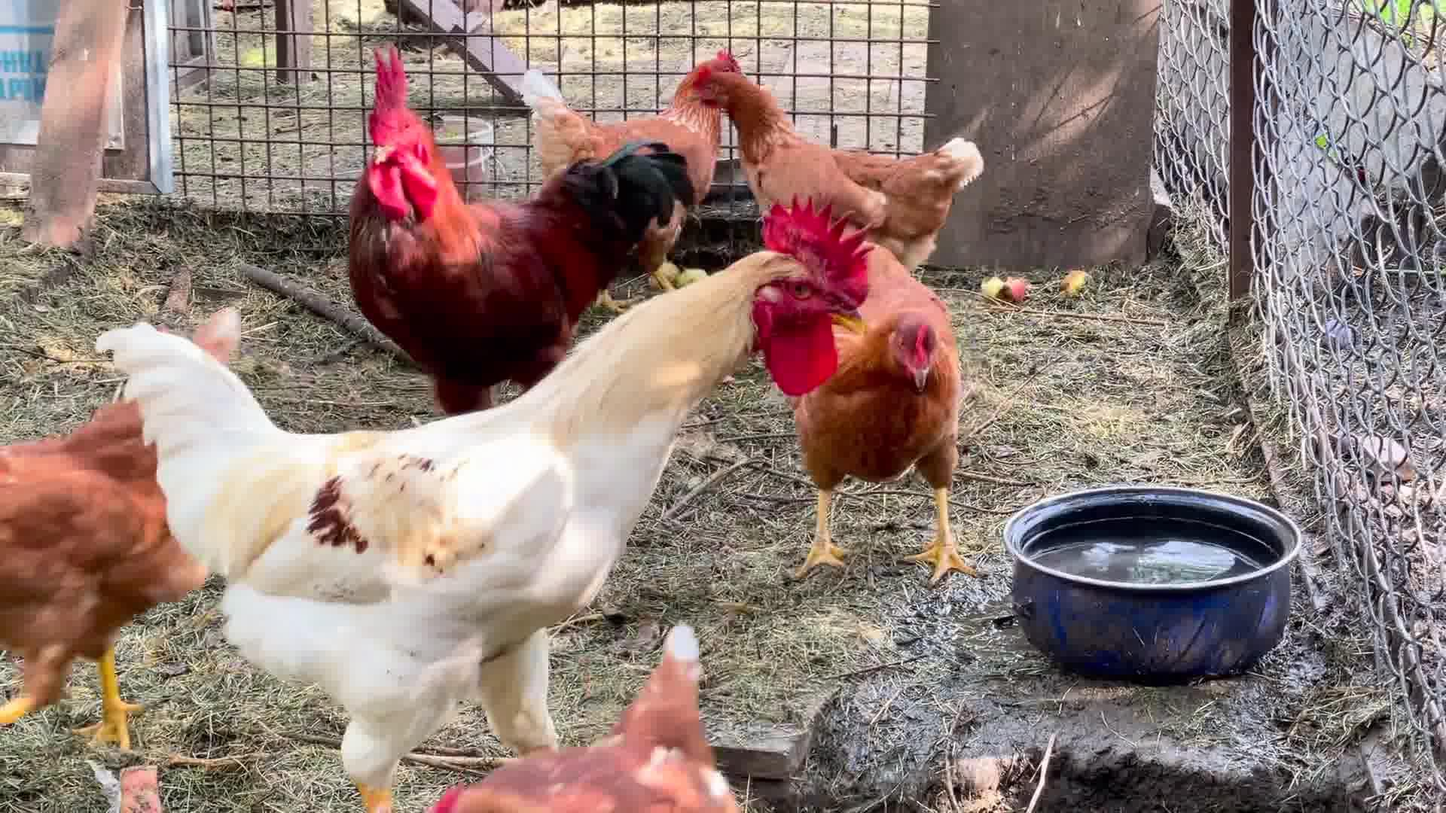Normal: (96, 202, 864, 758), (328, 44, 683, 393), (708, 76, 989, 274), (855, 269, 980, 612), (522, 40, 741, 190)
